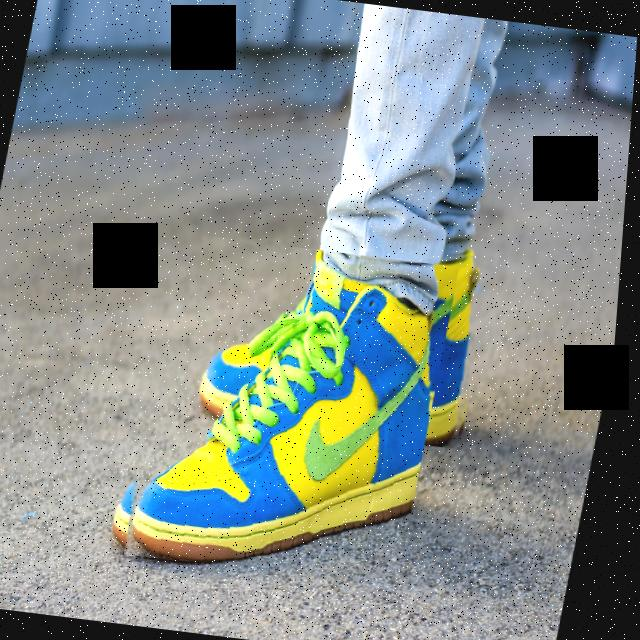shoe: (109, 231, 466, 588), (185, 218, 508, 450)
